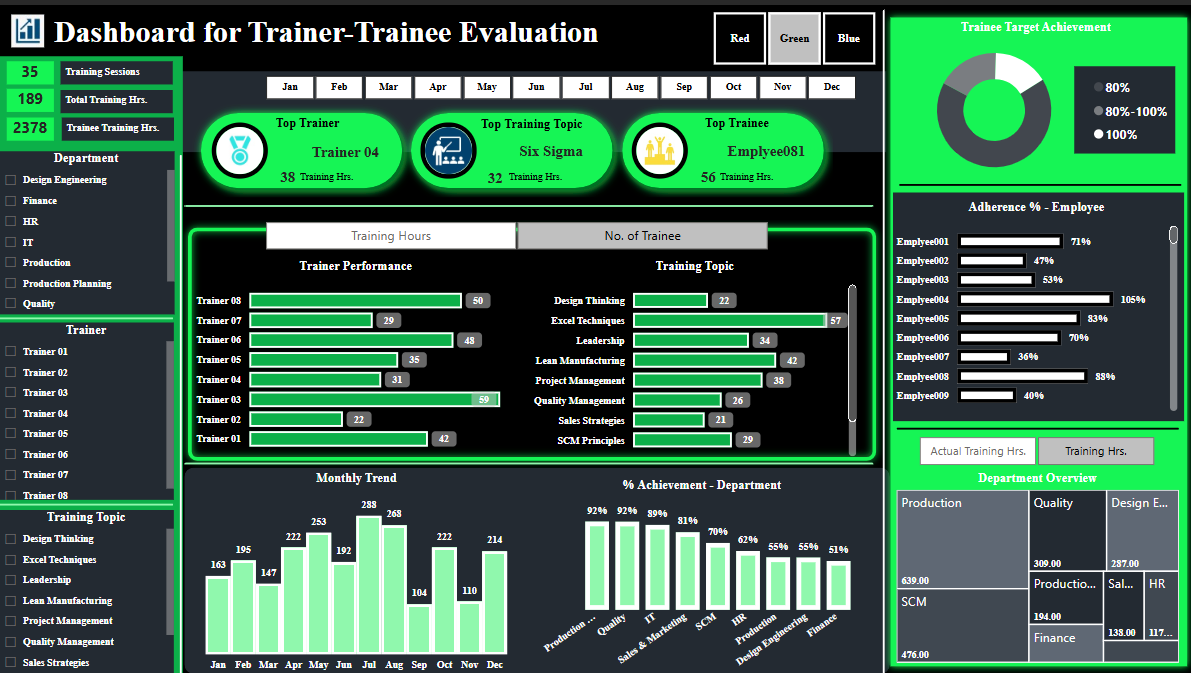

The dashboard page shown, as its layout file describes it:
{"tool":"powerbi","page":{"name":"RGB Dashboard","canvas":[1280,720],"ordinal":0},"visuals":[{"type":"card","fields":{"Values":["CountNonNull(tbl_TrainingRecords.Training Hrs.)"]},"box":[10,60,50,25],"z":0,"group":"g2"},{"type":"group","id":"g1","title":"Group 2","box":[207.5,105.7,235.2,100.2],"z":0,"group":"g3"},{"type":"shape","box":[207.5,105.7,235.2,100.2],"z":0,"group":"g1"},{"type":"shape","box":[432.2,105.7,235.5,100],"z":0,"group":"g4"},{"type":"shape","box":[657,105.7,235.5,100],"z":0,"group":"g5"},{"type":"shape","box":[194.8,229.4,751.7,265.5],"z":0},{"type":"card","fields":{"Values":["Sum(tbl_TrainingRecords.Training Hrs.)"]},"box":[10,90,50,25],"z":1000,"group":"g2"},{"type":"image","box":[228.3,126.1,60,60],"z":1000,"group":"g1"},{"type":"image","box":[451.9,126.2,60,60],"z":1000,"group":"g4"},{"type":"image","box":[677,126.2,60,60],"z":1000,"group":"g5"},{"type":"card","fields":{"Values":["Min(tbl_TrainingRecords.Trainer)"]},"box":[325.6,144.2,93.3,28.8],"z":1000,"group":"g3"},{"type":"shape","box":[199.1,494.9,754.6,220.7],"z":1000},{"type":"shape","box":[194.8,70.7,754.6,86.6],"z":2000},{"type":"textbox","box":[291.2,115.9,79.6,30.2],"z":2000,"group":"g1"},{"type":"textbox","box":[744.2,116,91.4,32.9],"z":2000,"group":"g5"},{"type":"card","fields":{"Values":["Sum(tbl_TraineeRecords.Training Hrs.)"]},"box":[10,120,50,25],"z":2000,"group":"g2"},{"type":"card","fields":{"Values":["Min(tbl_TrainingRecords.Training Topic)"]},"box":[533.7,141.7,115.7,31.4],"z":2000,"group":"g4"},{"type":"card","fields":{"Values":["Sum(tbl_TrainingRecords.Training Hrs.)"]},"box":[291.9,171.6,37.1,28.6],"z":2000,"group":"g3"},{"type":"shape","box":[946.5,5.8,333.3,709.8],"z":3000},{"type":"textbox","box":[68,60,120,25],"z":3000,"group":"g2"},{"type":"textbox","box":[534.4,172.2,82.9,20.7],"z":3000,"group":"g4"},{"type":"textbox","box":[759.2,172.2,82.9,20.7],"z":3000,"group":"g5"},{"type":"textbox","box":[310.5,173,82.9,20.7],"z":3000,"group":"g3"},{"type":"shape","box":[0,54.8,197.7,660.8],"z":4000},{"type":"textbox","box":[68,90.2,120,25],"z":4000,"group":"g2"},{"type":"card","fields":{"Values":["Sum(tbl_TrainingRecords.Training Hrs.)"]},"box":[503.7,164.5,58.6,44.3],"z":4000,"group":"g4"},{"type":"card","fields":{"Values":["Sum(tbl_TraineeRecords.Training Hrs.)"]},"box":[732.8,168.8,51.4,34.3],"z":4000,"group":"g5"},{"type":"textbox","box":[488,117.2,165.7,24.3],"z":5000,"group":"g4"},{"type":"textbox","box":[68.5,120,120,25],"z":5000,"group":"g2"},{"type":"card","fields":{"Values":["Min(tbl_TraineeRecords.Employee Name)"]},"box":[751.3,141.7,138.6,31.4],"z":5000,"group":"g5"},{"type":"clusteredBarChart","title":"Trainer Performance","fields":{"Category":["tbl_TrainingRecords.Trainer"],"Y":["Ref_Trainer.Trainer Slicer"]},"box":[209.7,271.4,345,210],"z":5000},{"type":"clusteredColumnChart","title":"Monthly Trend","fields":{"Y":["Sum(tbl_TraineeRecords.Training Hrs.)"],"Category":["tbl_TrainingRecords.Month Name"]},"box":[211.4,498.6,344.3,217.1],"z":6000},{"type":"clusteredColumnChart","title":"% Achievement - Department","fields":{"Category":["tbl_EmpDatabase.Department"],"Y":["tbl_EmpDatabase.Adherence %"]},"box":[580,505,344.8,210.6],"z":7000},{"type":"slicer","fields":{"Values":["Ref_Department.Option"]},"box":[964.3,460,290,34.3],"z":8000},{"type":"image","box":[10,5,45,45],"z":9000},{"type":"slicer","fields":{"Values":["Ref_Trainer.Option"]},"box":[265.7,230,575.7,32.9],"z":10000},{"type":"textbox","box":[54.3,5.7,634.3,60],"z":11000},{"type":"clusteredBarChart","title":"Training Topic","fields":{"Y":["Ref_Trainer.Trainer Slicer"],"Category":["tbl_TrainingRecords.Training Topic"]},"box":[571.4,271.4,345.7,211.4],"z":12000},{"type":"group","id":"g2","title":"M1","box":[10,60,178.5,85],"z":13000},{"type":"group","id":"g3","title":"Oval 1","box":[207.5,105.7,235.2,100.2],"z":14000},{"type":"group","id":"g4","title":"Oval 2","box":[432.2,105.7,235.5,103.1],"z":15000},{"type":"group","id":"g5","title":"Oval 3","box":[657,105.7,235.5,100],"z":16000},{"type":"shape","box":[1150.6,65.5,108.2,93.5],"z":16500},{"type":"donutChart","title":"Trainee Target Achievement","fields":{"Category":["tbl_EmpDatabase.Status"],"Y":["CountNonNull(tbl_EmpDatabase.Employee ID)"]},"box":[960,15.7,300,172.9],"z":17000},{"type":"shape","box":[960.9,444.4,301.5,15.9],"z":18000},{"type":"treemap","title":"Department Overview","fields":{"Group":["tbl_EmpDatabase.Department"],"Values":["Ref_Department.Depart Slicer"]},"box":[960.3,498.5,301.5,204.4],"z":19000},{"type":"slicer","title":"Department","fields":{"Values":["tbl_EmpDatabase.Department"]},"box":[0,155.7,188.6,174.3],"z":20000},{"type":"slicer","title":"Trainer","fields":{"Values":["tbl_TraineeRecords.Trainer"]},"box":[0,339.7,188.2,189.7],"z":21000},{"type":"slicer","title":"Training Topic","fields":{"Values":["tbl_TraineeRecords.Training Topic"]},"box":[0,539.7,188.2,177.9],"z":22000},{"type":"shape","box":[934.3,5.7,25.7,710],"z":23000},{"type":"shape","box":[190.4,160.1,8.7,559.8],"z":24000},{"type":"shape","box":[956.8,200.4,311.4,244.5],"z":24500},{"type":"clusteredBarChart","title":"Adherence % - Employee","fields":{"Category":["tbl_EmpDatabase.Employee Name"],"Y":["tbl_EmpDatabase.Adherence %"]},"box":[960,208.6,301.4,225.7],"z":25000},{"type":"slicer","title":"Department","fields":{"Values":["tbl_TrainingRecords.Month Name"]},"box":[266,73,670,29],"z":26000},{"type":"shape","box":[198.6,208.6,737.1,12.9],"z":27000},{"type":"shape","box":[198.6,484.3,737.1,12.9],"z":28000},{"type":"shape","box":[963.8,184.7,301.5,15.9],"z":29000},{"type":"slicer","title":"Department","fields":{"Values":["Color_Flag.Color"]},"box":[744.3,5.3,212.5,60.1],"z":30000},{"type":"shape","box":[0,331.8,187.6,7.2],"z":31000},{"type":"shape","box":[0,530.9,187.6,7.2],"z":32000}]}

Visuals, with their boxes in screenshot pixels (x1, y1, x2, y2), scaled from the page's 1280x720 canvas onto the 1191x673 screenshot:
card - CountNonNull(tbl_TrainingRecords.Training Hrs.): <box>9,56,56,79</box>
"Group 2" group: <box>193,99,412,192</box>
shape: <box>193,99,412,192</box>
shape: <box>402,99,621,192</box>
shape: <box>611,99,830,192</box>
shape: <box>181,214,881,463</box>
card - Sum(tbl_TrainingRecords.Training Hrs.): <box>9,84,56,107</box>
image: <box>212,118,268,174</box>
image: <box>420,118,476,174</box>
image: <box>630,118,686,174</box>
card - Min(tbl_TrainingRecords.Trainer): <box>303,135,390,162</box>
shape: <box>185,463,887,669</box>
shape: <box>181,66,883,147</box>
textbox: <box>271,108,345,137</box>
textbox: <box>692,108,777,139</box>
card - Sum(tbl_TraineeRecords.Training Hrs.): <box>9,112,56,136</box>
card - Min(tbl_TrainingRecords.Training Topic): <box>497,132,604,162</box>
card - Sum(tbl_TrainingRecords.Training Hrs.): <box>272,160,306,187</box>
shape: <box>881,5,1190,669</box>
textbox: <box>63,56,175,79</box>
textbox: <box>497,161,574,180</box>
textbox: <box>706,161,784,180</box>
textbox: <box>289,162,366,181</box>
shape: <box>0,51,184,669</box>
textbox: <box>63,84,175,108</box>
card - Sum(tbl_TrainingRecords.Training Hrs.): <box>469,154,523,195</box>
card - Sum(tbl_TraineeRecords.Training Hrs.): <box>682,158,730,190</box>
textbox: <box>454,110,608,132</box>
textbox: <box>64,112,175,136</box>
card - Min(tbl_TraineeRecords.Employee Name): <box>699,132,828,162</box>
"Trainer Performance" clusteredBarChart: <box>195,254,516,450</box>
"Monthly Trend" clusteredColumnChart: <box>197,466,517,669</box>
"% Achievement - Department" clusteredColumnChart: <box>540,472,860,669</box>
slicer - Ref_Department.Option: <box>897,430,1167,462</box>
image: <box>9,5,51,47</box>
slicer - Ref_Trainer.Option: <box>247,215,783,246</box>
textbox: <box>51,5,641,61</box>
"Training Topic" clusteredBarChart: <box>532,254,853,451</box>
"M1" group: <box>9,56,175,136</box>
"Oval 1" group: <box>193,99,412,192</box>
"Oval 2" group: <box>402,99,621,195</box>
"Oval 3" group: <box>611,99,830,192</box>
shape: <box>1071,61,1171,149</box>
"Trainee Target Achievement" donutChart: <box>893,15,1172,176</box>
shape: <box>894,415,1175,430</box>
"Department Overview" treemap: <box>894,466,1174,657</box>
"Department" slicer: <box>0,146,175,308</box>
"Trainer" slicer: <box>0,318,175,495</box>
"Training Topic" slicer: <box>0,504,175,671</box>
shape: <box>869,5,893,669</box>
shape: <box>177,150,185,672</box>
shape: <box>890,187,1180,416</box>
"Adherence % - Employee" clusteredBarChart: <box>893,195,1174,406</box>
"Department" slicer: <box>248,68,871,95</box>
shape: <box>185,195,871,207</box>
shape: <box>185,453,871,465</box>
shape: <box>897,173,1177,188</box>
"Department" slicer: <box>693,5,890,61</box>
shape: <box>0,310,175,317</box>
shape: <box>0,496,175,503</box>
